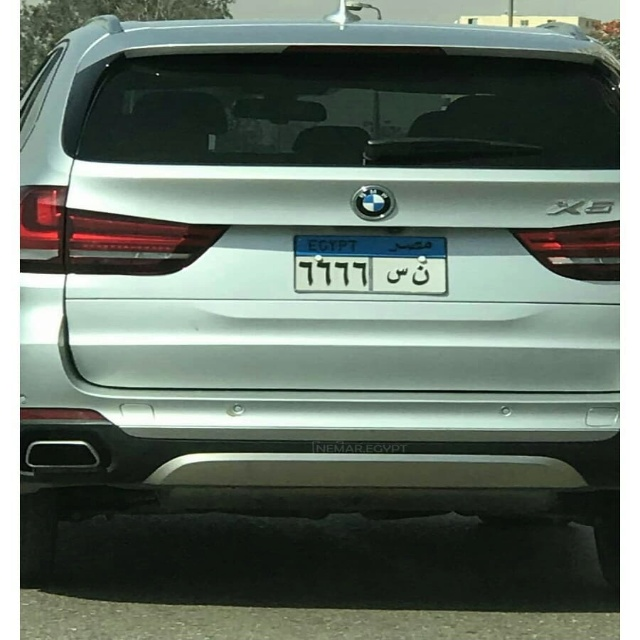License Plate: (292, 233, 451, 295)
